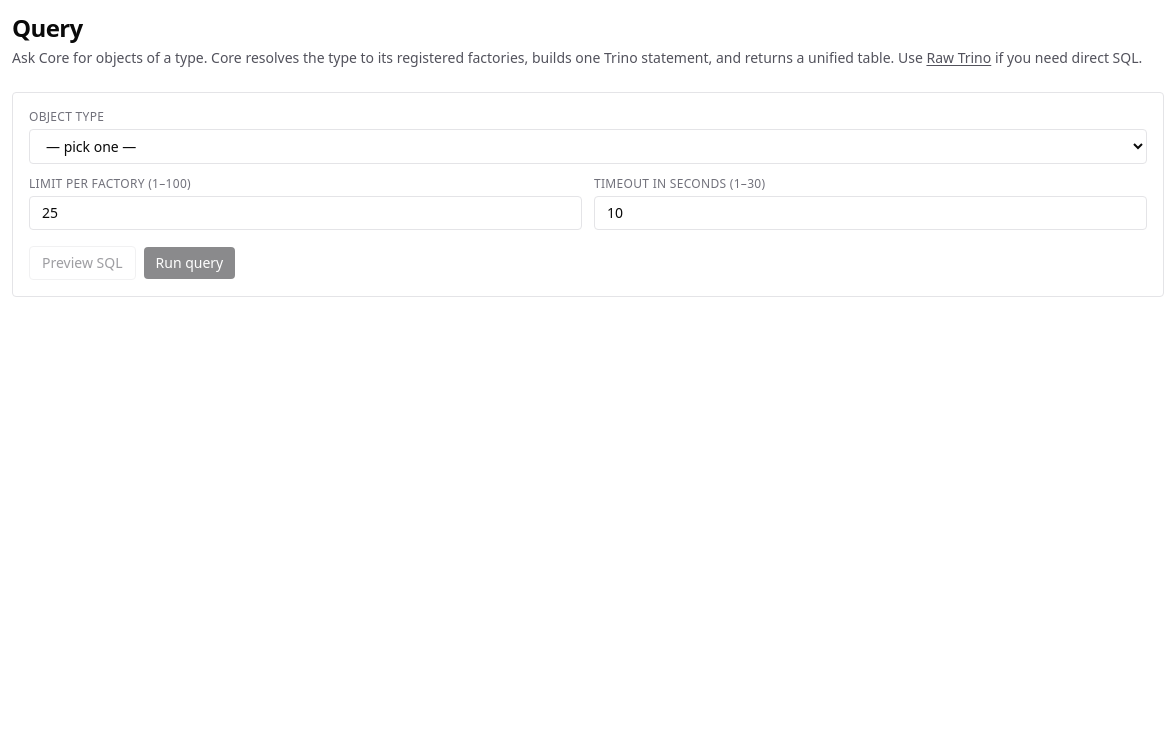
Query page › renders partial state with skipped factories when a catalog is missing
Select "Company" in the dropdown with test id "from-select": (588, 146) [29,129,1147,164]
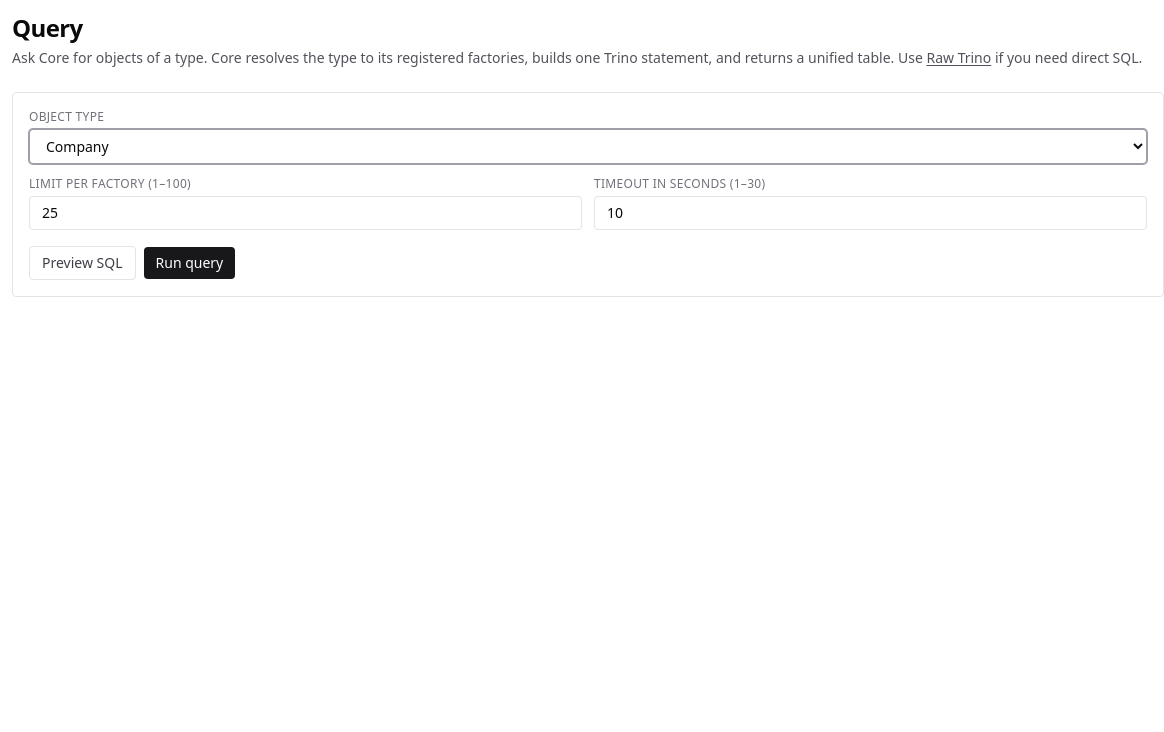
Click the button with test id "run-button": (189, 263) [144,247,235,279]
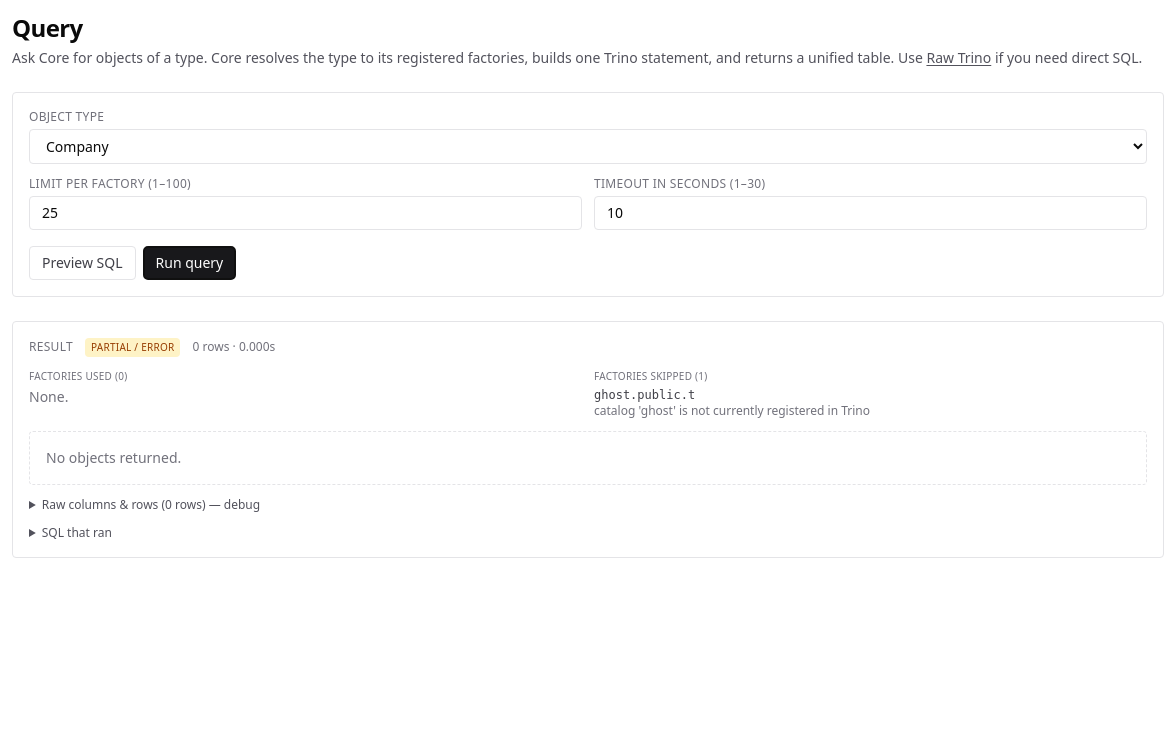
Result: the element with test id "result-panel" is shown at [12,321,1163,558]
Result: the text with test id "result-status-pill" shows "PARTIAL" at [91,340,174,354]
Result: the list with test id "factories-skipped" shows "ghost.public.t" at [594,388,695,402]
